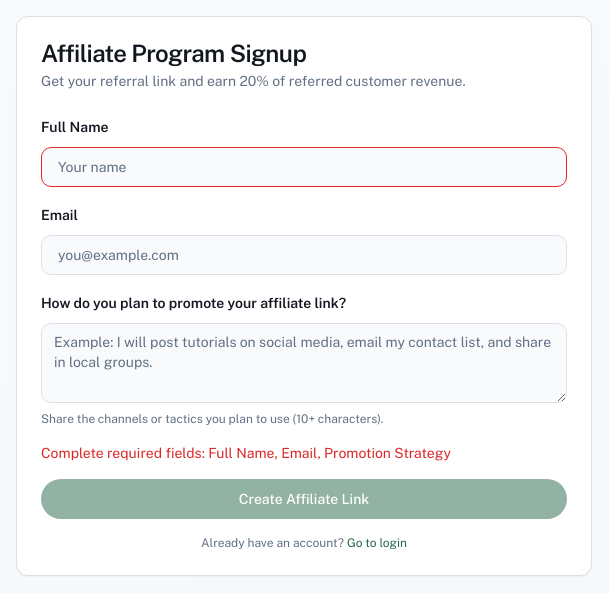
Scenario: AffiliateSignup › keeps create button disabled until required fields are complete and valid
Expected: the button "Create Affiliate Link" is disabled, [41,479,567,519]
Expected: the text "Complete required fields: Full Name, Email, Promotion Strategy" is shown, [41,445,451,461]
Type "Taylor Smith" into the field labelled "Full Name" at (304, 167), box [41,147,567,187]
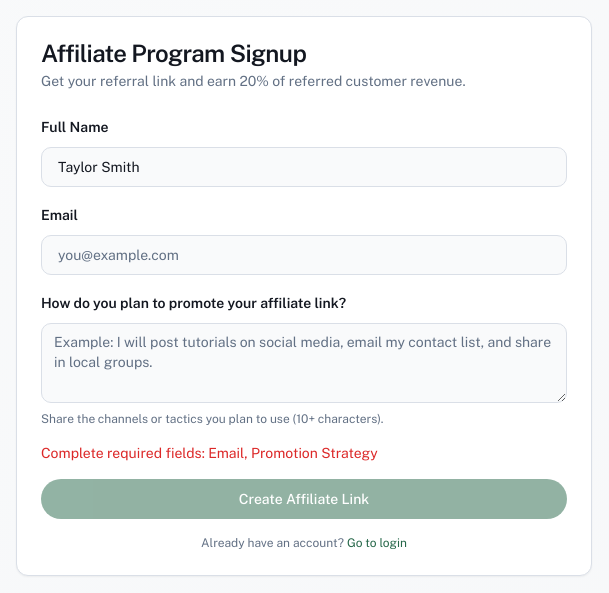
Expected: the button "Create Affiliate Link" is disabled, [41,479,567,519]
Expected: the text "Complete required fields: Email, Promotion Strategy" is shown, [41,445,378,461]
Type "taylor" into the field labelled "Email" at (304, 255), box [41,235,567,275]
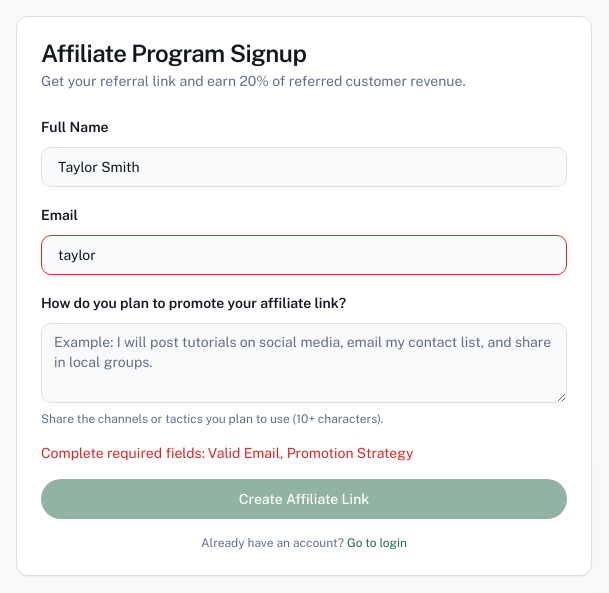
Expected: the button "Create Affiliate Link" is disabled, [41,479,567,519]
Expected: the text "Complete required fields: Valid Email, Promotion Strategy" is shown, [41,445,413,461]
Replace the text in the field labelled "Email" with "taylor@example.com" at (304, 255), box [41,235,567,275]
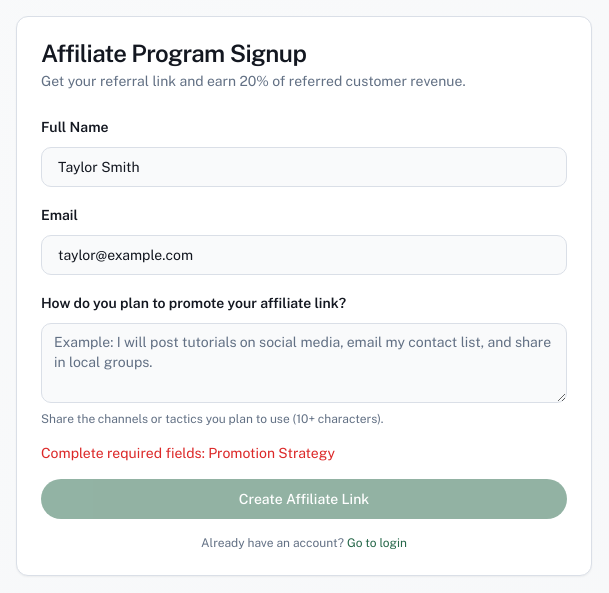
Expected: the button "Create Affiliate Link" is disabled, [41,479,567,519]
Expected: the text "Complete required fields: Promotion Strategy" is shown, [41,445,335,461]
Replace the text in the text box labelled "How do you plan to promote your affiliate link?" with "I will share on Instagram, YouTube, and with clients by email." at (304, 363), box [41,323,567,403]
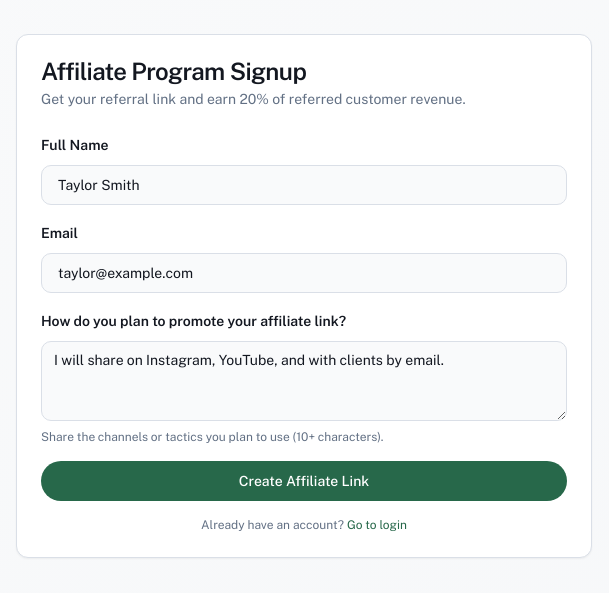
Expected: the button "Create Affiliate Link" is enabled, [41,461,567,501]
Expected: the text "Complete required fields:" is gone
